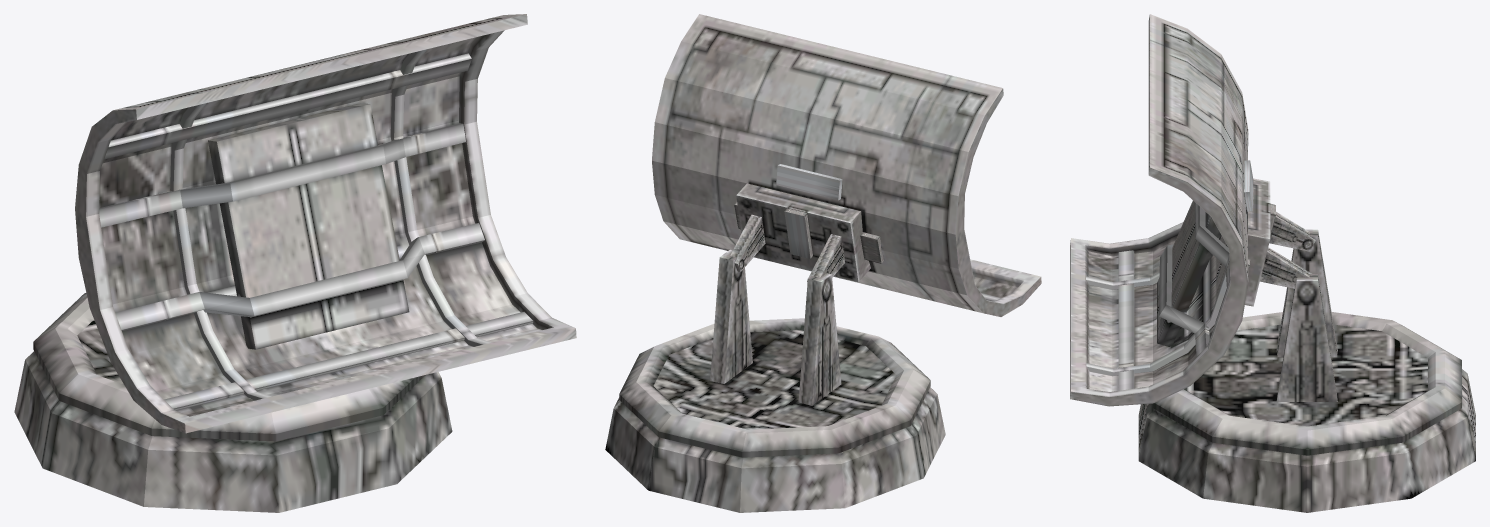
The model's file is corellian_corvette_radar_s01_l0.fbx.
The picture shows the model from 3 angles, left to right: view 1: azimuth 30°, elevation 25°; view 2: azimuth 150°, elevation 25°; view 3: azimuth 270°, elevation 25°; orthographic projection. The views are drawn at different scales.
Parts seen in each view (by area): view 1: mesh_node; view 2: mesh_node; view 3: mesh_node.
Part boxes in pixels (x1,y1,x2,y2): mesh_node: [14, 14, 576, 512]; mesh_node: [605, 14, 1041, 512]; mesh_node: [1070, 14, 1475, 512].
Bounding box in the file's own units: 10.97 × 11.58 × 12.25.
Materials: 1 (1 with a texture image).
